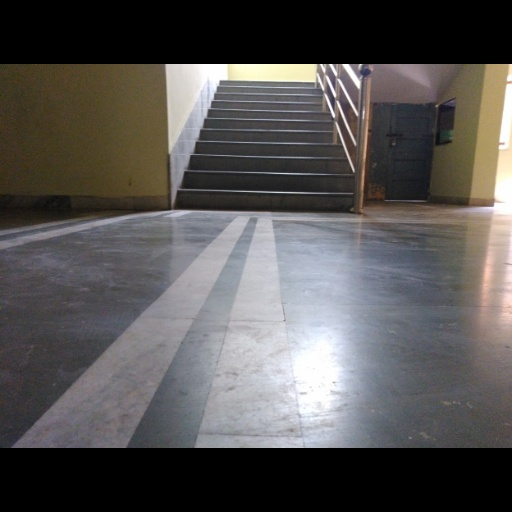Stairs: (177, 81, 354, 211)
